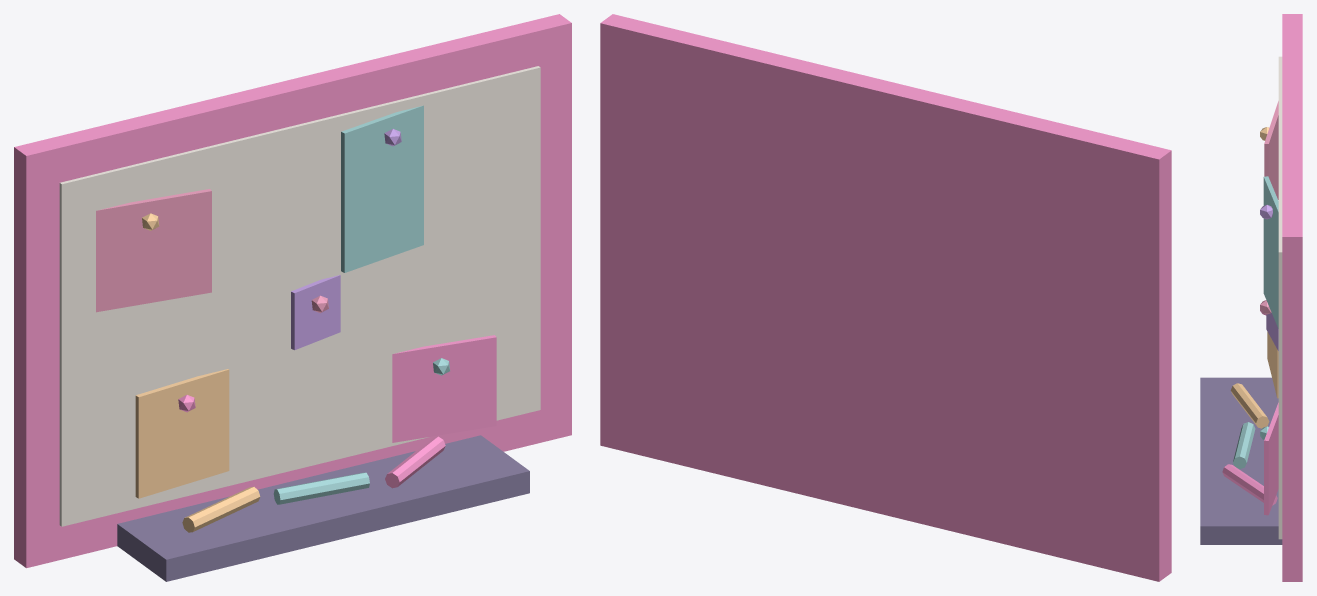
File: hotspot_graphicdesign_corkboard.glb
The picture shows the model from 3 angles, left to right: view 1: azimuth 30°, elevation 25°; view 2: azimuth 150°, elevation 25°; view 3: azimuth 270°, elevation 25°; orthographic projection. The views are drawn at different scales.
Parts seen in each view (by area): view 1: hotspot_graphicdesign_corkboard; view 2: hotspot_graphicdesign_corkboard; view 3: hotspot_graphicdesign_corkboard.
Part boxes in pixels (x1,y1,x2,y2): hotspot_graphicdesign_corkboard: [14, 14, 571, 581]; hotspot_graphicdesign_corkboard: [600, 14, 1171, 581]; hotspot_graphicdesign_corkboard: [1200, 14, 1302, 581].
Bounding box in the file's own units: 0.9 × 0.65 × 0.175.
